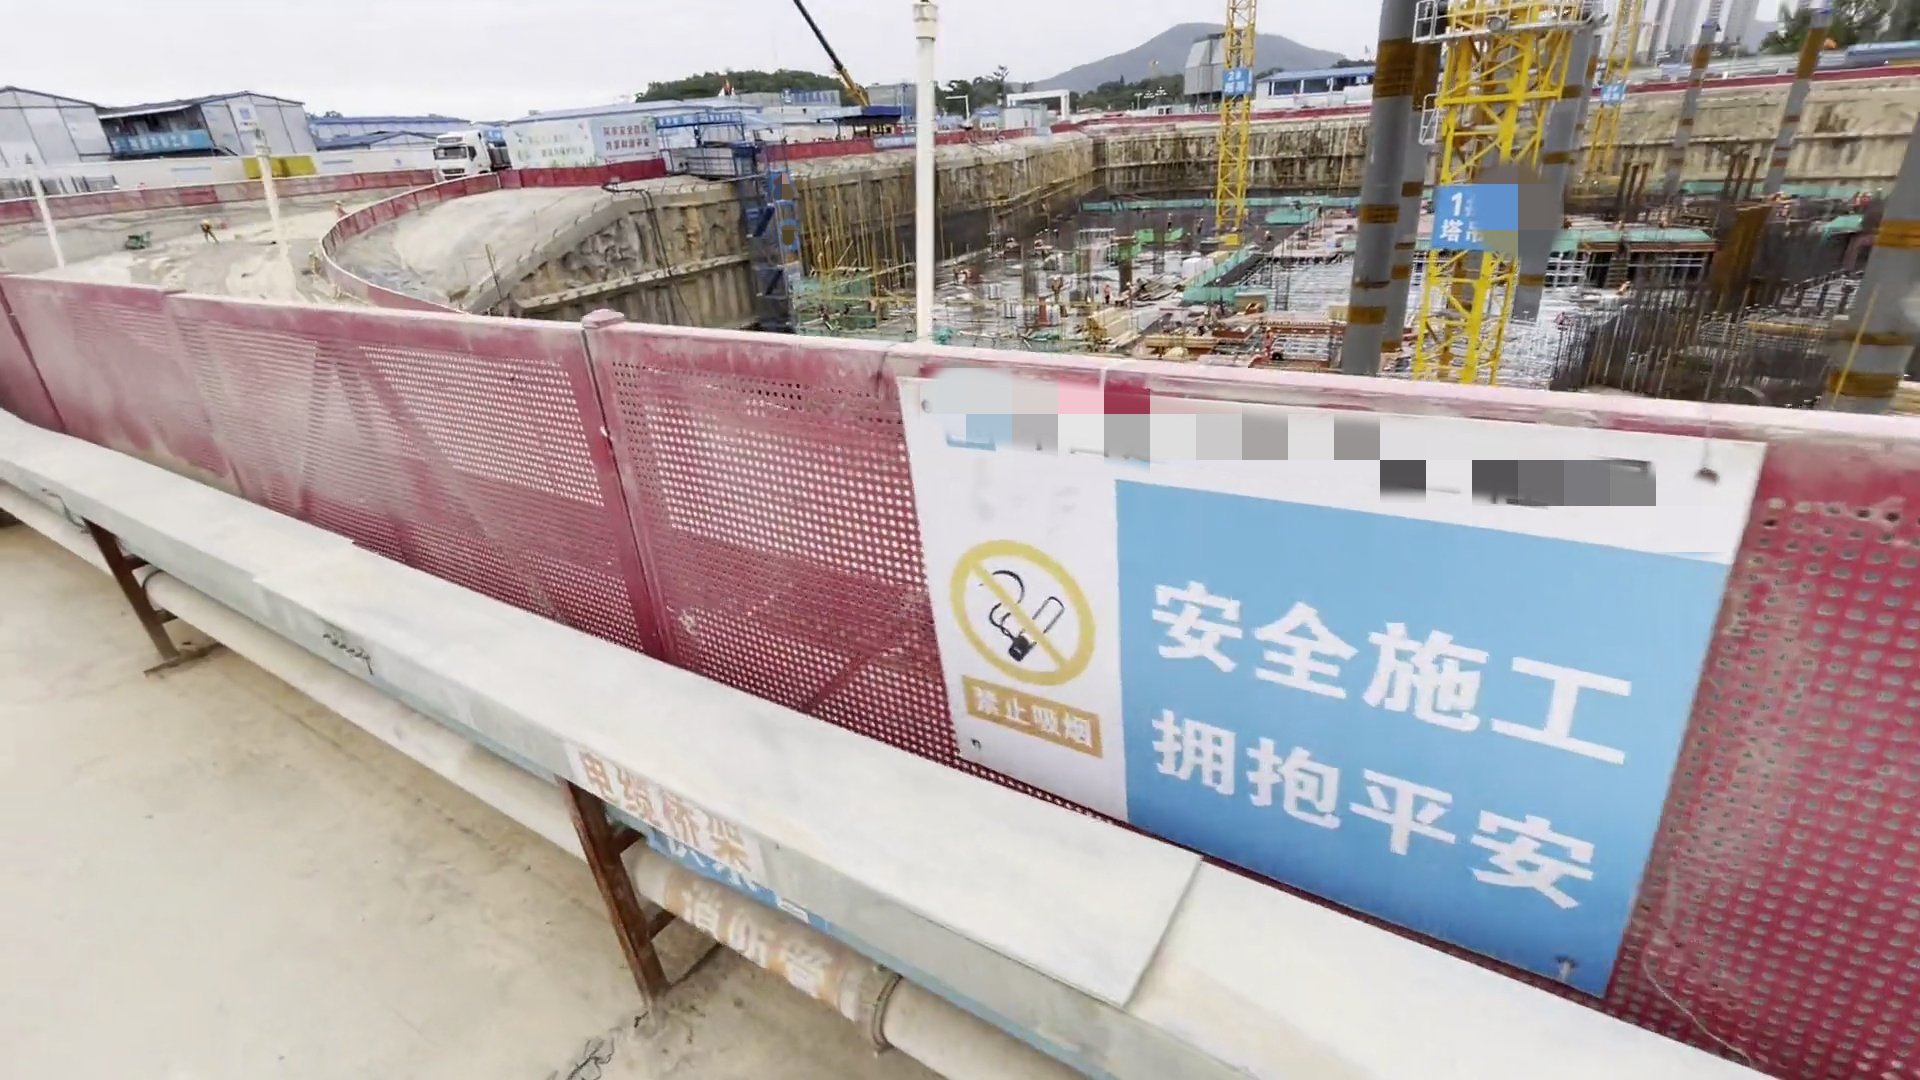fence: (1, 232, 1880, 1054)
slogan: (924, 388, 1702, 956), (539, 105, 673, 182), (115, 121, 227, 156)
